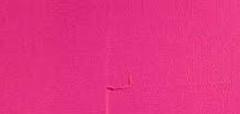snag: (102, 72, 140, 95)
